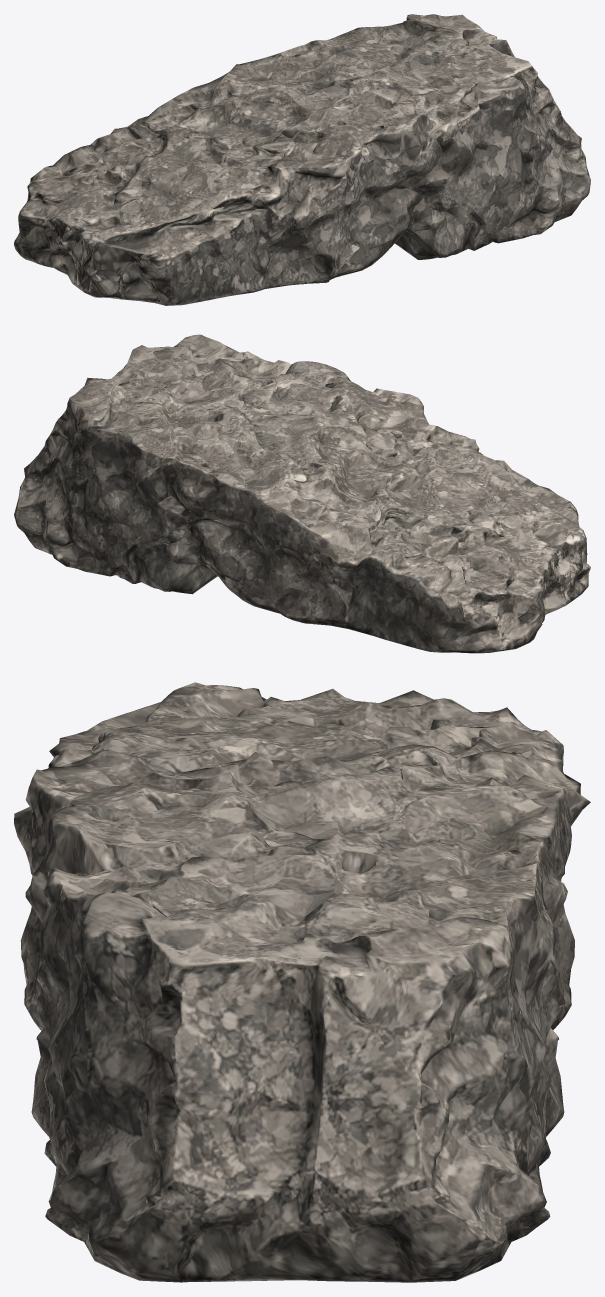
The model's file is slab_c.glb.
3 renders of one model, top to bottom at view 1: azimuth 30°, elevation 25°; view 2: azimuth 150°, elevation 25°; view 3: azimuth 270°, elevation 25°, orthographic. The views are drawn at different scales.
Parts seen in each view (by area): view 1: slab_c; view 2: slab_c; view 3: slab_c.
Part boxes in pixels (left/top/right/bottom): slab_c: left=14, top=14, right=590, bottom=305; slab_c: left=14, top=334, right=590, bottom=653; slab_c: left=14, top=682, right=590, bottom=1282.
Bounding box in the file's own units: 8 × 2.21 × 4.
1 material, 1 textured.
